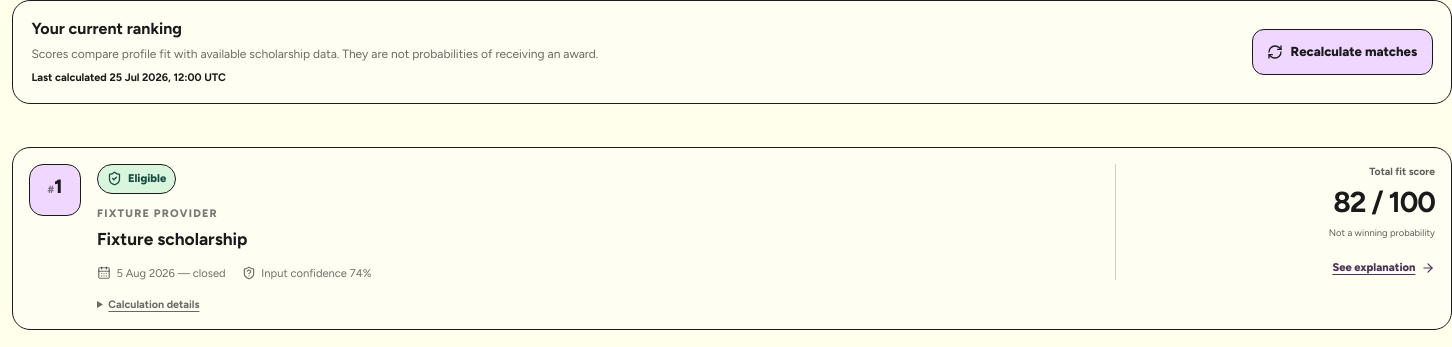
Test: ranked match list › announces recalculation completion without replacing the control
The width and height of the screenshot is (1452, 347).
Click the button "Recalculate matches" at [1342, 52], box [1252,29,1433,75]
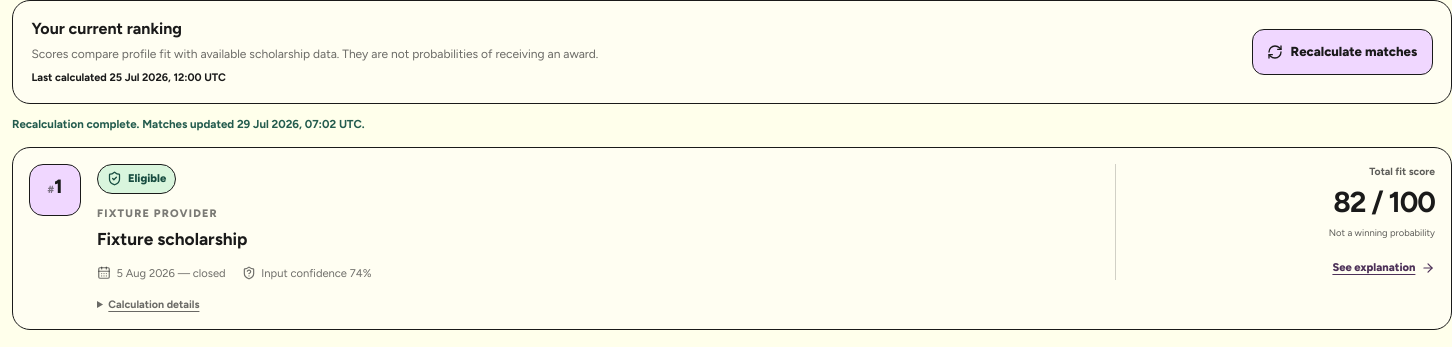
Check: the text "Recalculation complete" is shown, box [12,117,365,131]
